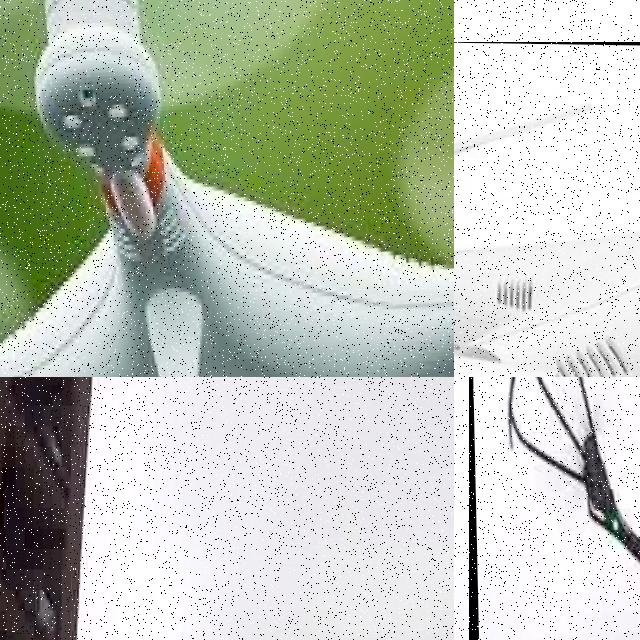0: (469, 377, 640, 640)
drone: (0, 0, 454, 377), (454, 42, 640, 377)
